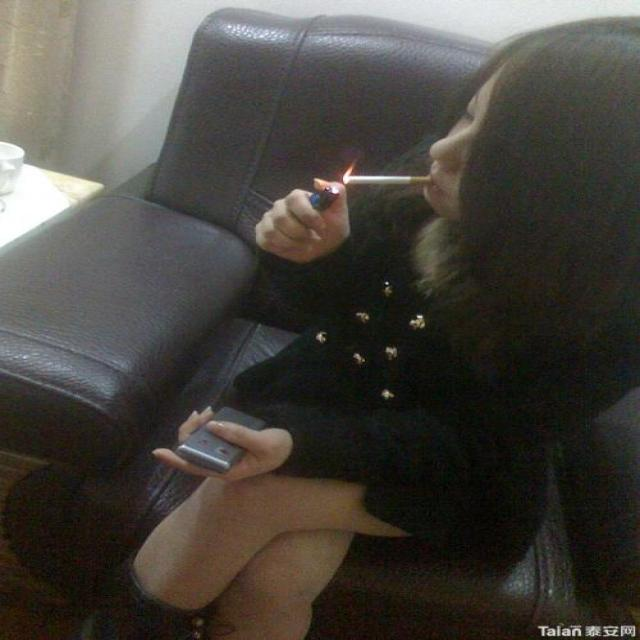cigarette: (343, 174, 433, 187)
